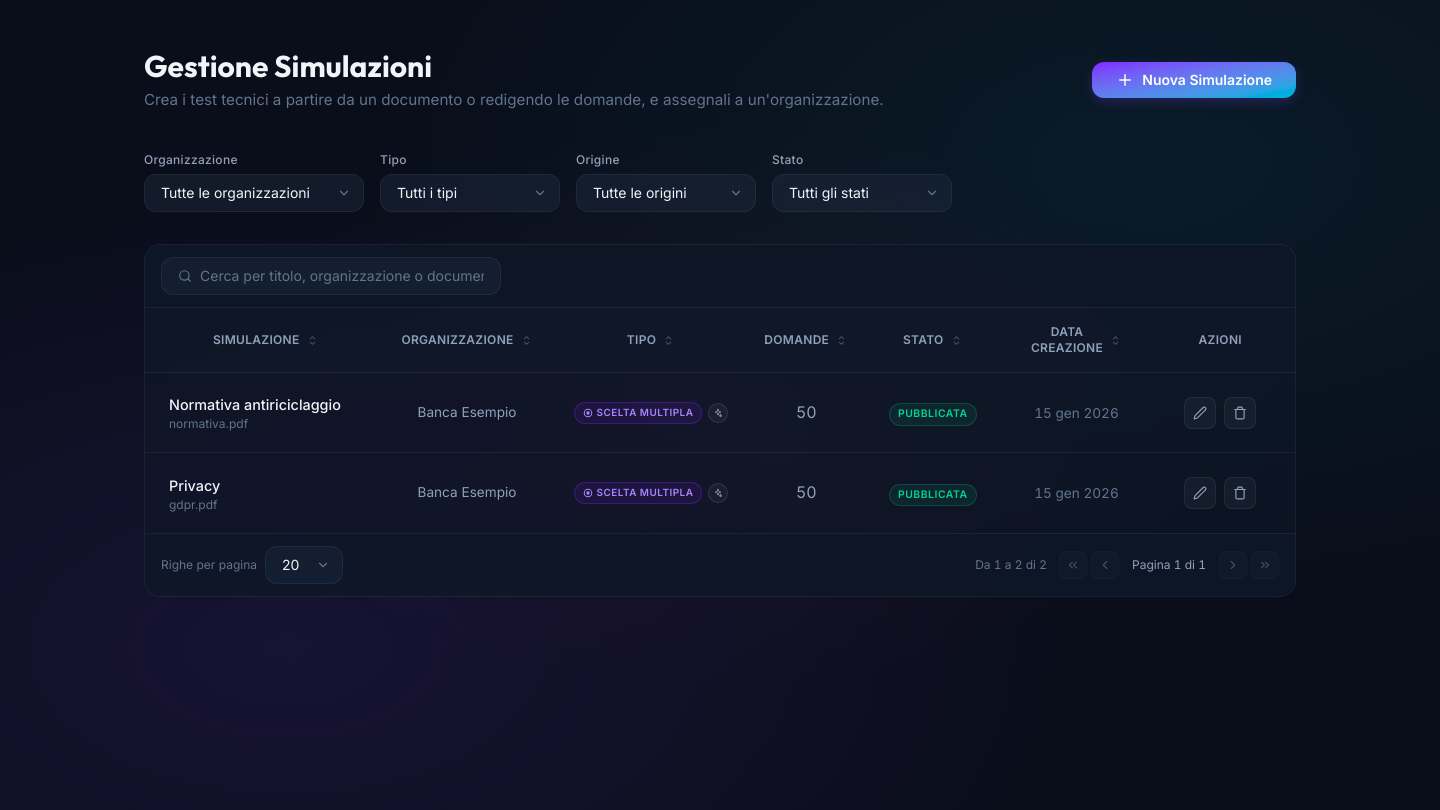
Scenario: elenco › cerca per titolo, organizzazione e documento
Type "gdpr" into the field with placeholder "Cerca per titolo, organizzazione o documento...".
click(342, 276); type("gdpr")  # box [200,258,484,294]
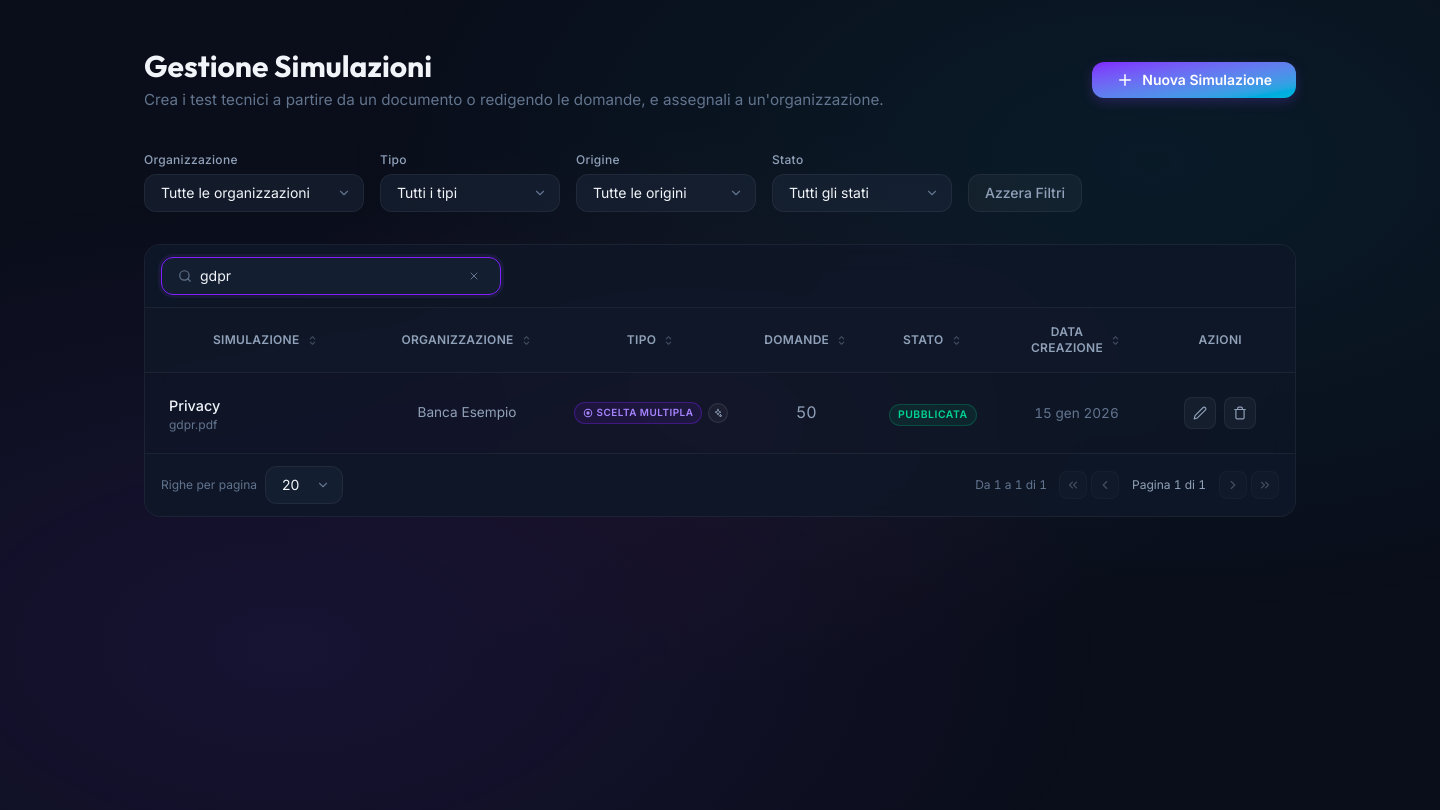
expect the text "Privacy" is shown: met, box [169,396,220,414]
expect the text "Normativa antiriciclaggio" is gone: met
